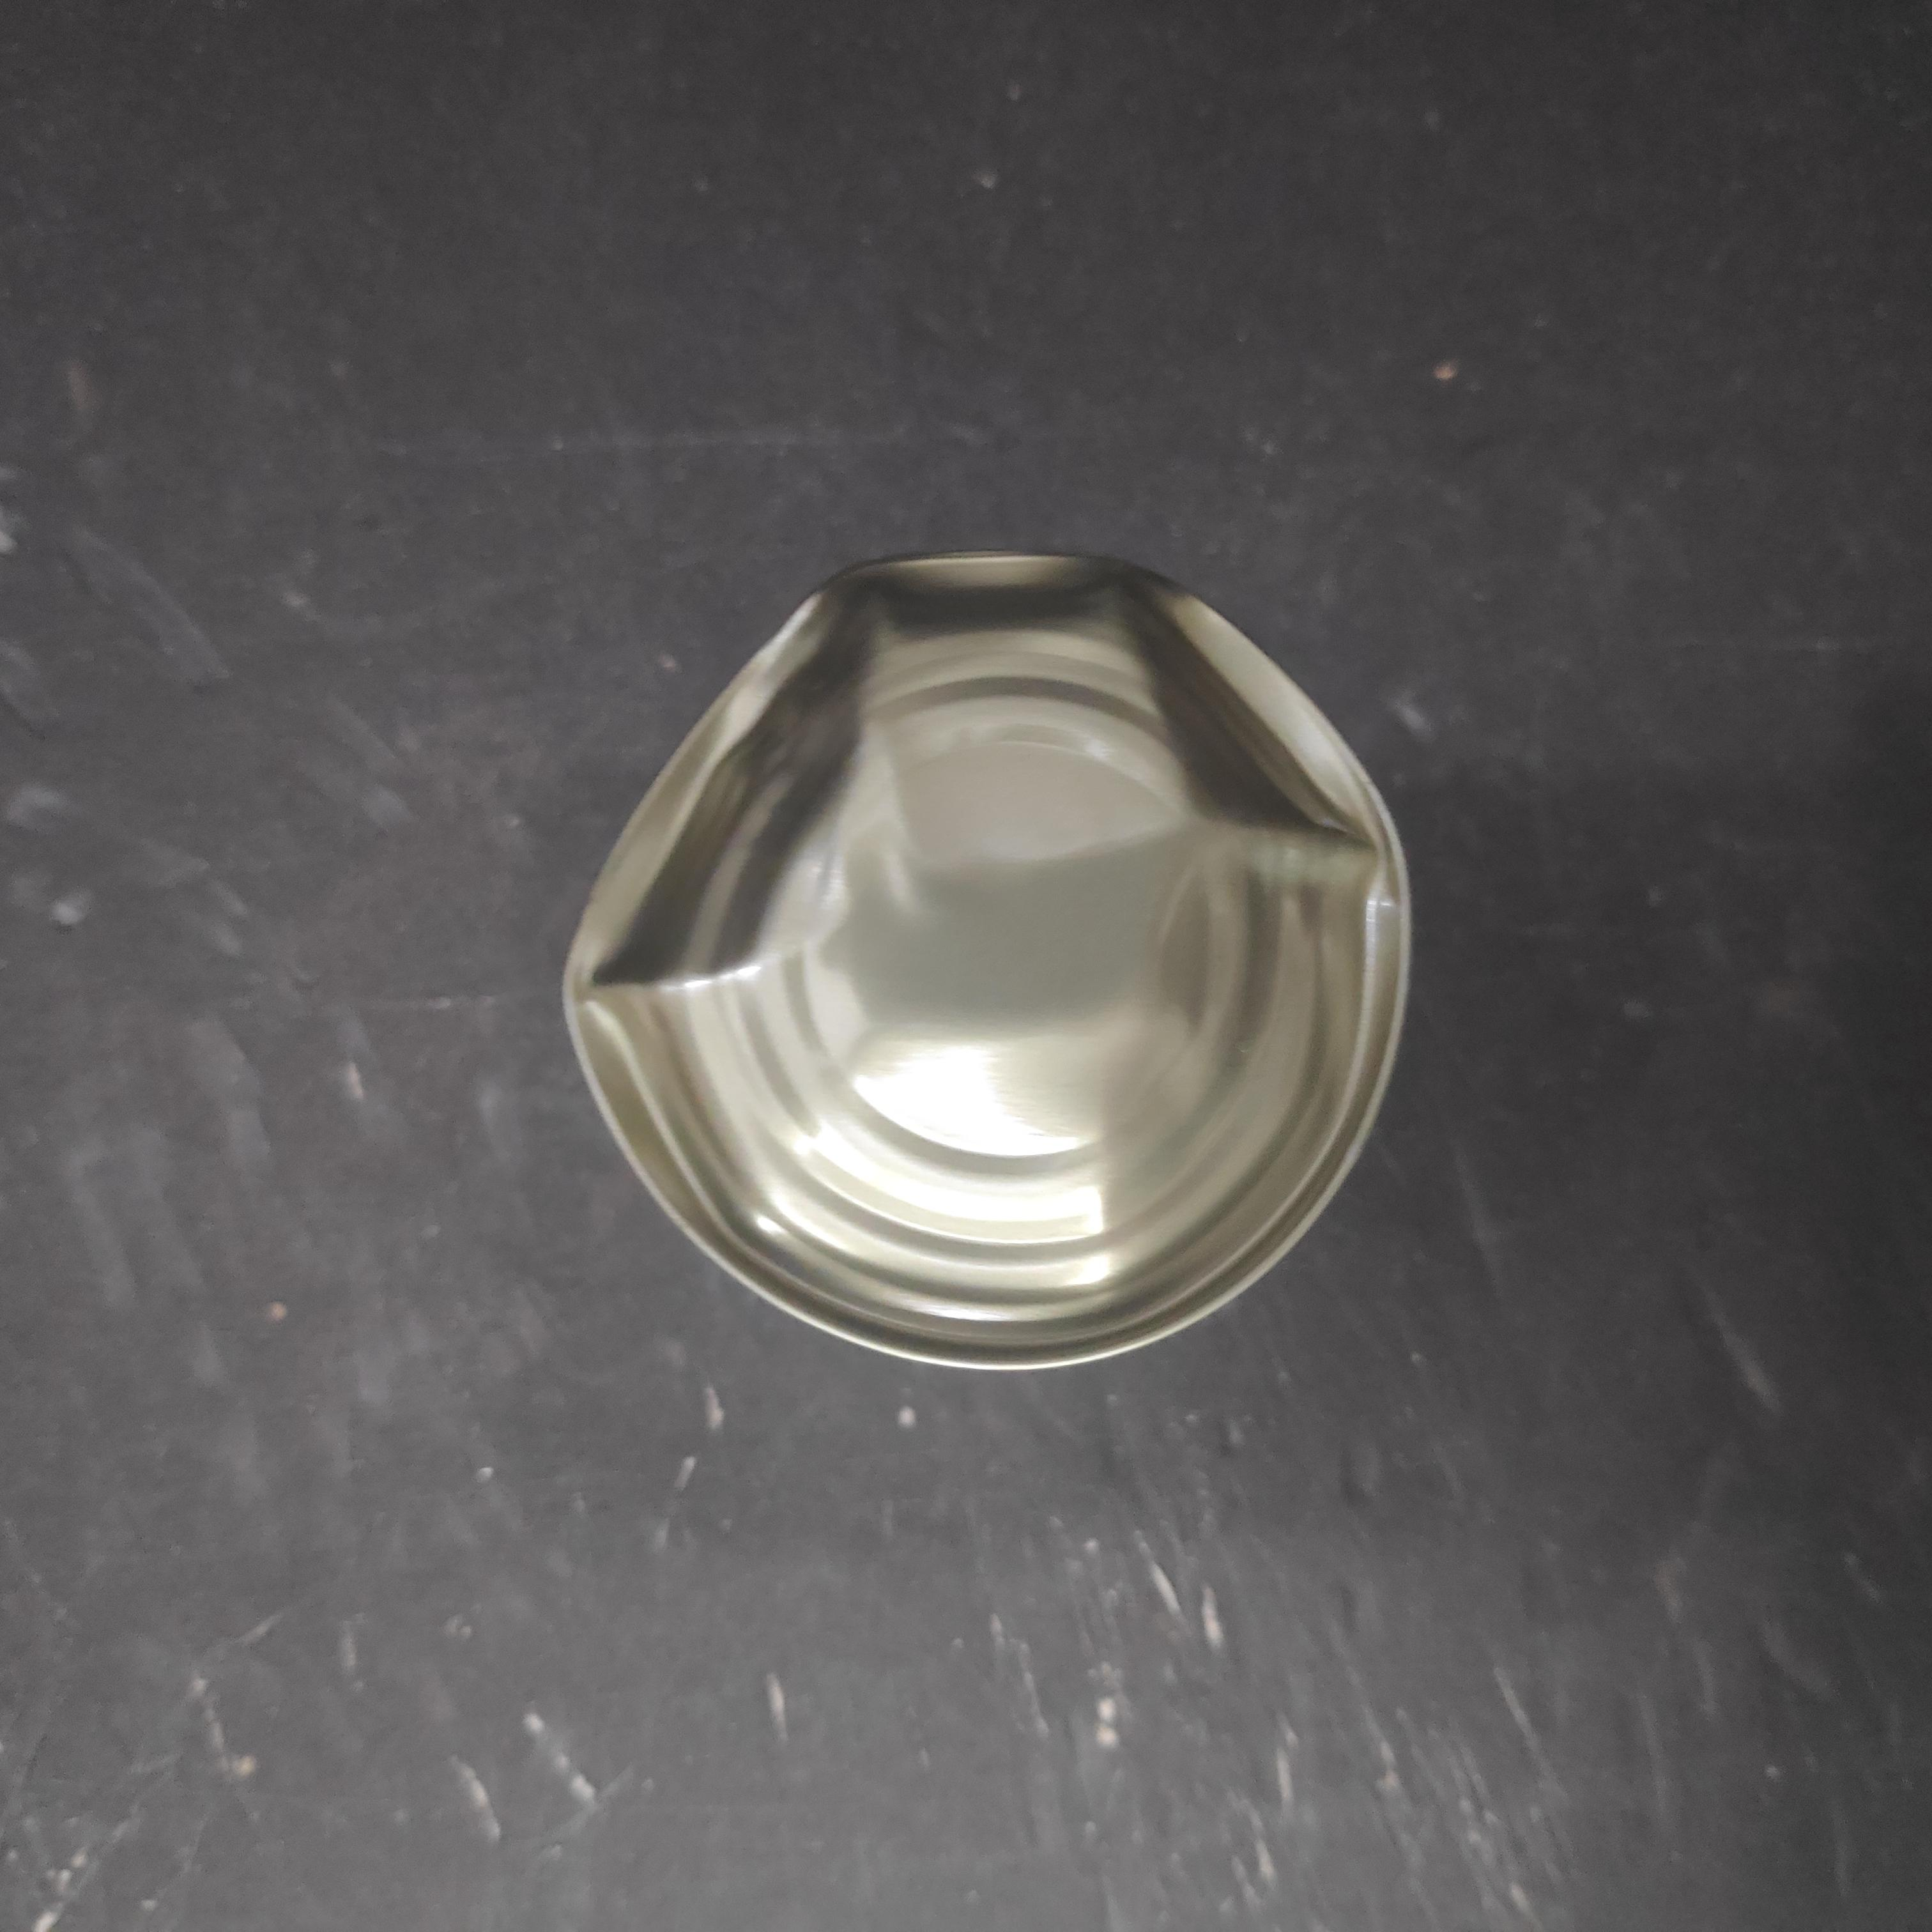Critical Defect: (548, 547, 1401, 1418)
